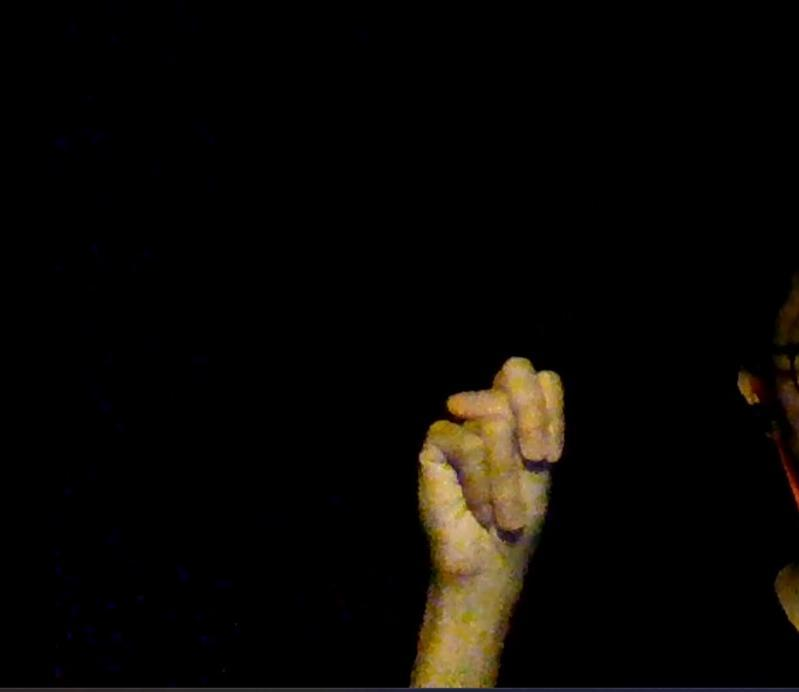n: (414, 352, 569, 576)
